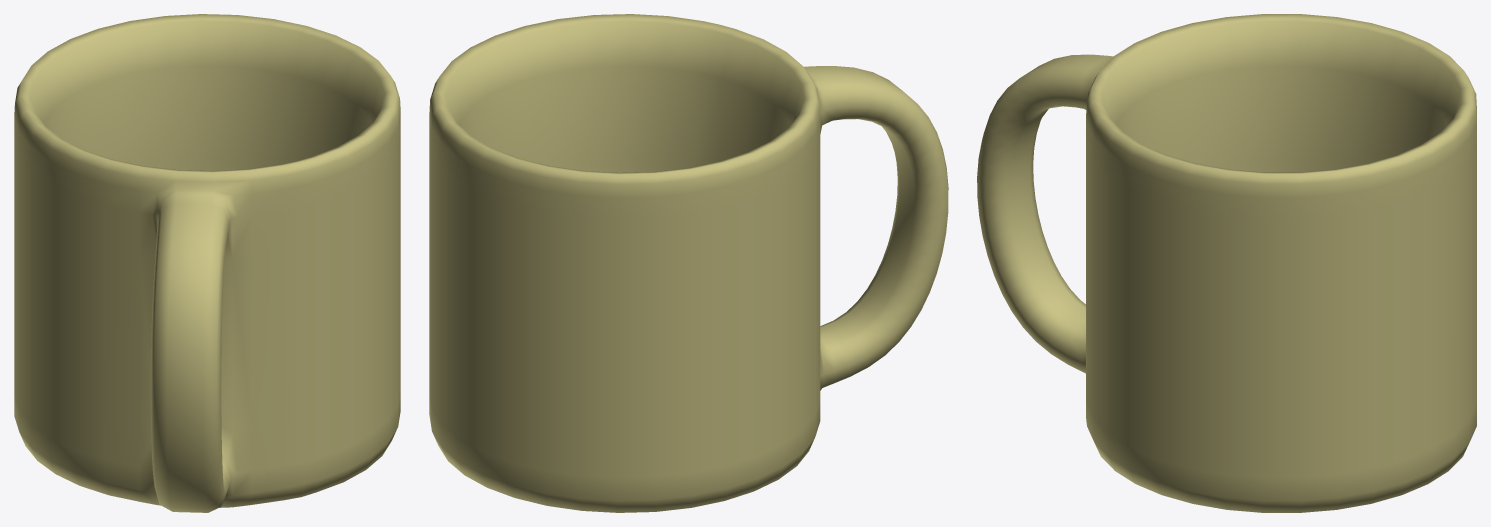
The model's file is cup.fbx.
The picture shows the model from 3 angles, left to right: view 1: azimuth 30°, elevation 25°; view 2: azimuth 150°, elevation 25°; view 3: azimuth 270°, elevation 25°; orthographic projection.
Visible parts, largest first — view 1: Cylinder; view 2: Cylinder; view 3: Cylinder.
Part boxes in pixels (x1=…): Cylinder: x1=14, y1=14, x2=400, y2=512; Cylinder: x1=429, y1=14, x2=948, y2=512; Cylinder: x1=977, y1=14, x2=1476, y2=512.
Bounding box in the file's own units: 24.67 × 23.28 × 29.84.
